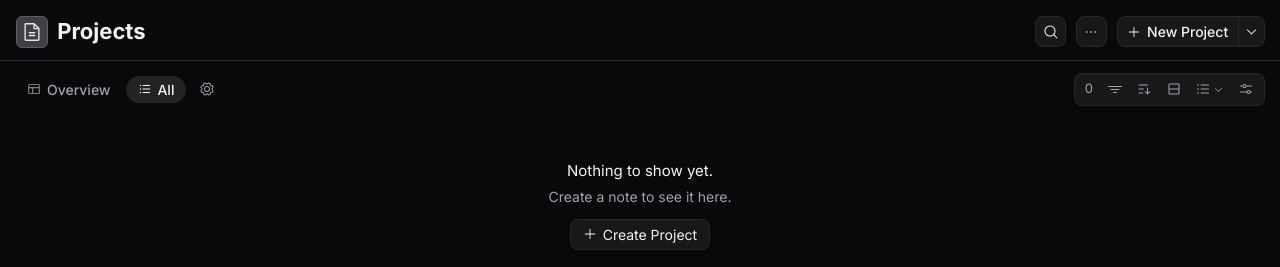
Scenario: TypePage › test TypePage split button lists templates
Later steps or results of the test are not shown.
Click the button named "New from template". click: (1251, 32)
box: top-left (1238, 17), bottom-right (1264, 46)
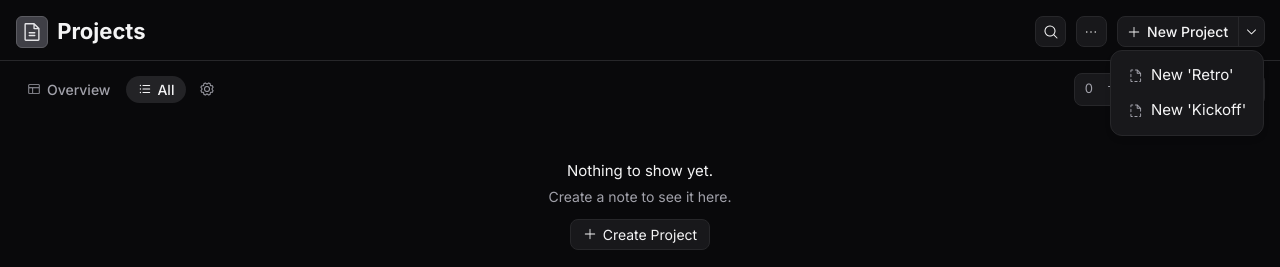
Result: the menu items read "New 'Retro'", "New 'Kickoff'", in this order at top-left (1128, 65), bottom-right (1234, 84); top-left (1128, 100), bottom-right (1246, 119)
